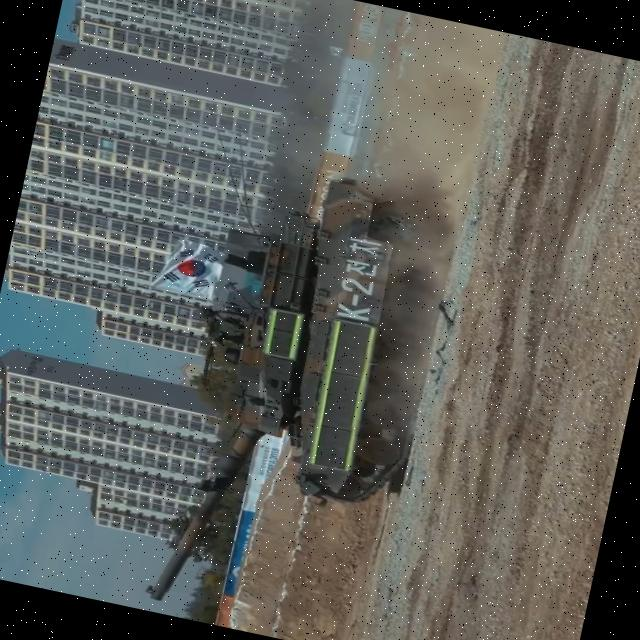korea tank: (141, 154, 466, 640)
